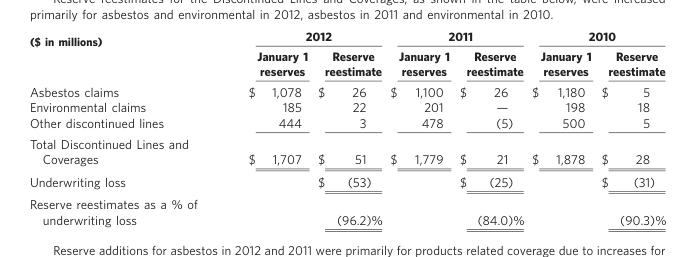table: (28, 29, 665, 226)
table column: (28, 29, 222, 226), (222, 29, 312, 226), (453, 29, 527, 226), (312, 29, 385, 226), (595, 29, 665, 226), (385, 29, 453, 226), (527, 29, 595, 226)
table column header: (28, 29, 665, 80)
table row: (28, 132, 665, 169), (28, 45, 665, 80), (28, 192, 665, 226), (28, 169, 665, 192), (28, 80, 665, 98), (28, 114, 665, 132), (28, 29, 665, 45), (28, 98, 665, 114)
table spanning cell: (28, 29, 222, 80), (222, 29, 385, 45), (385, 29, 527, 45), (527, 29, 665, 45)
